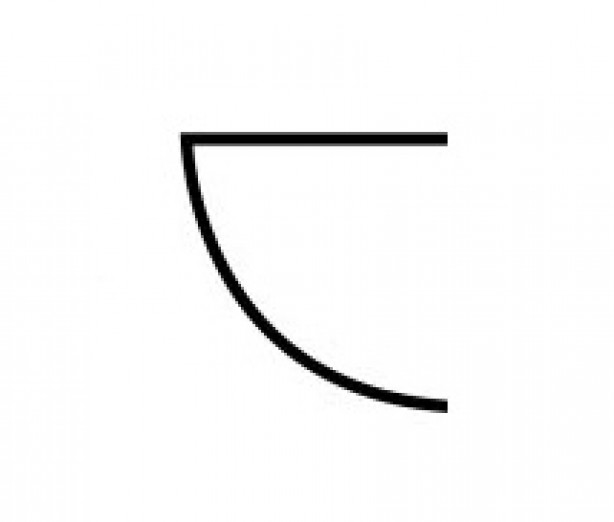door: (129, 102, 490, 443)
